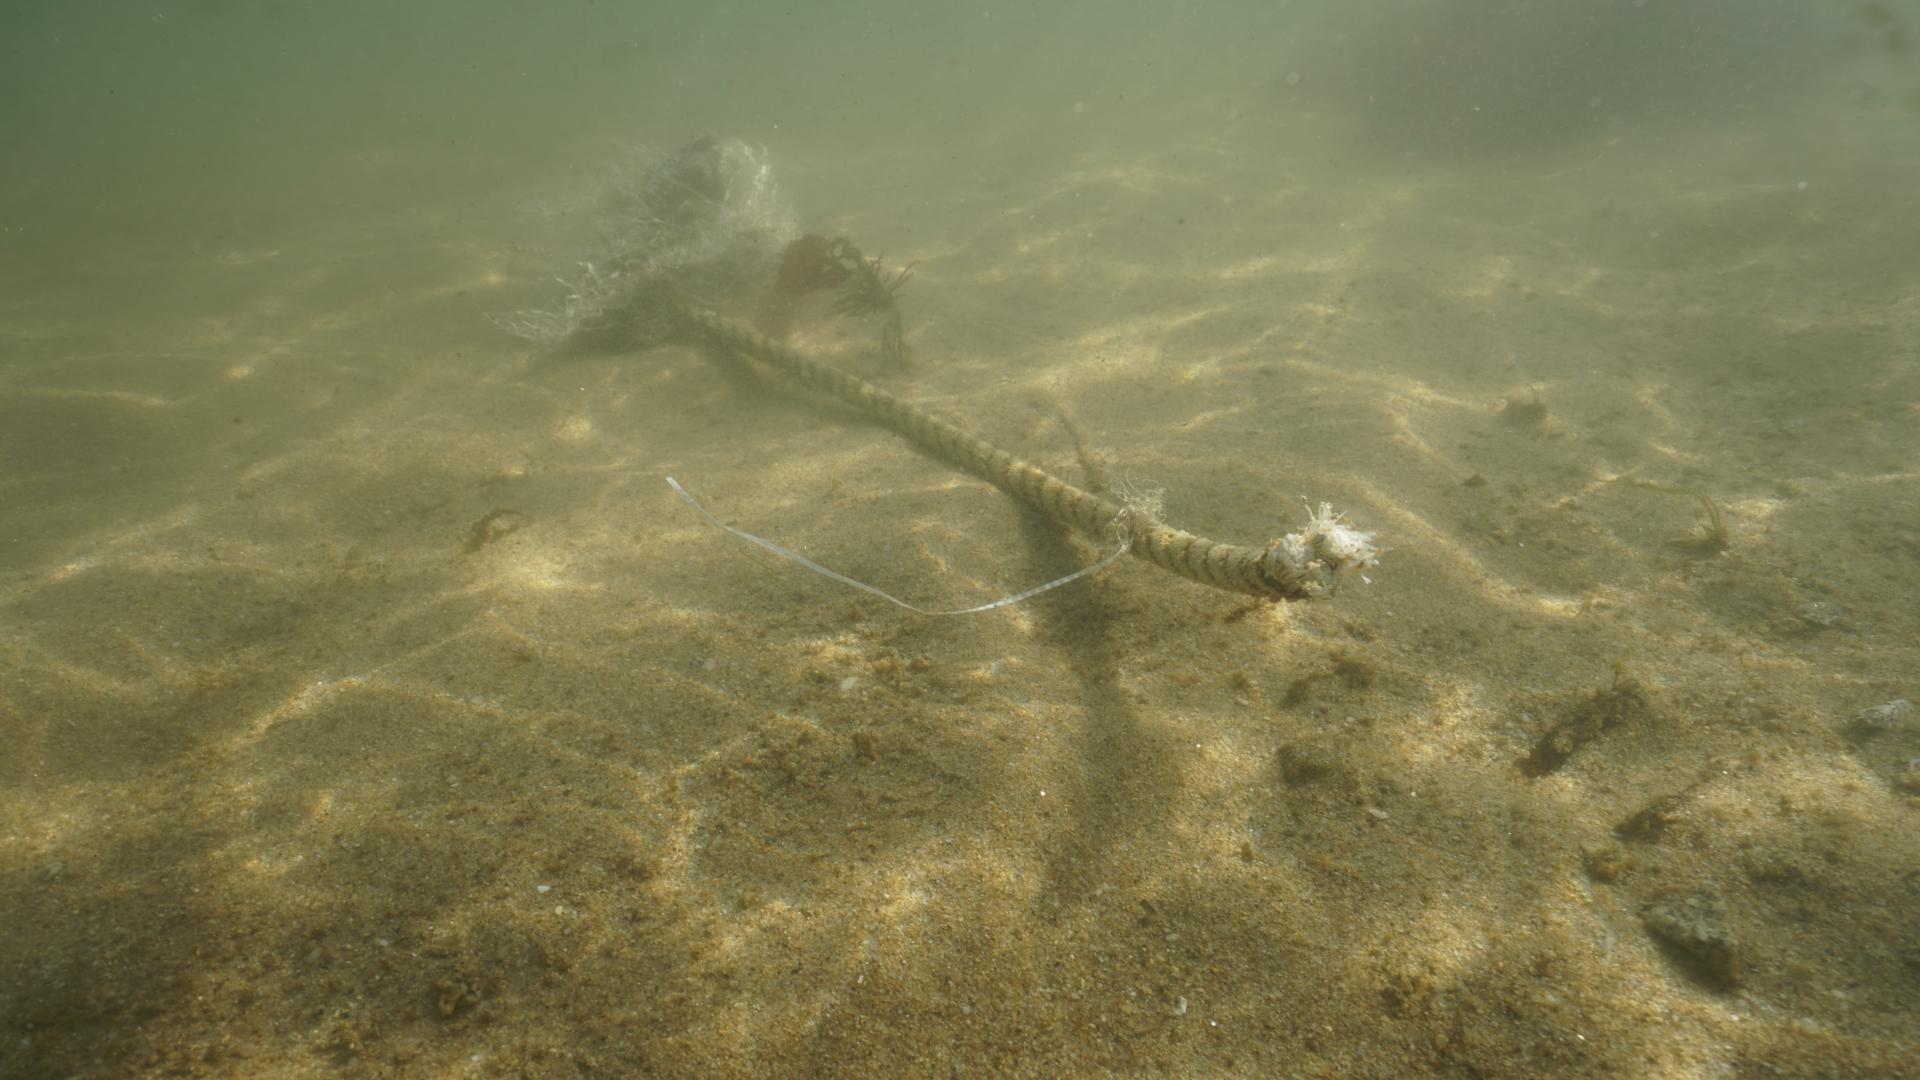rope: (678, 301, 1320, 603)
